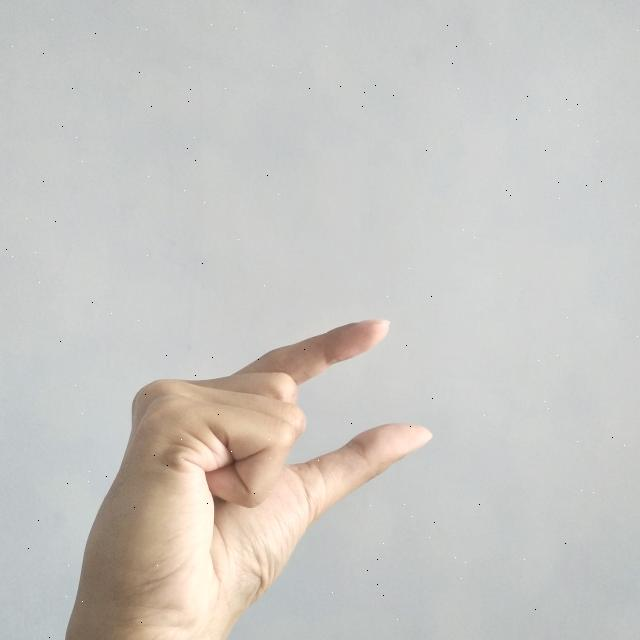G: (66, 315, 437, 640)
